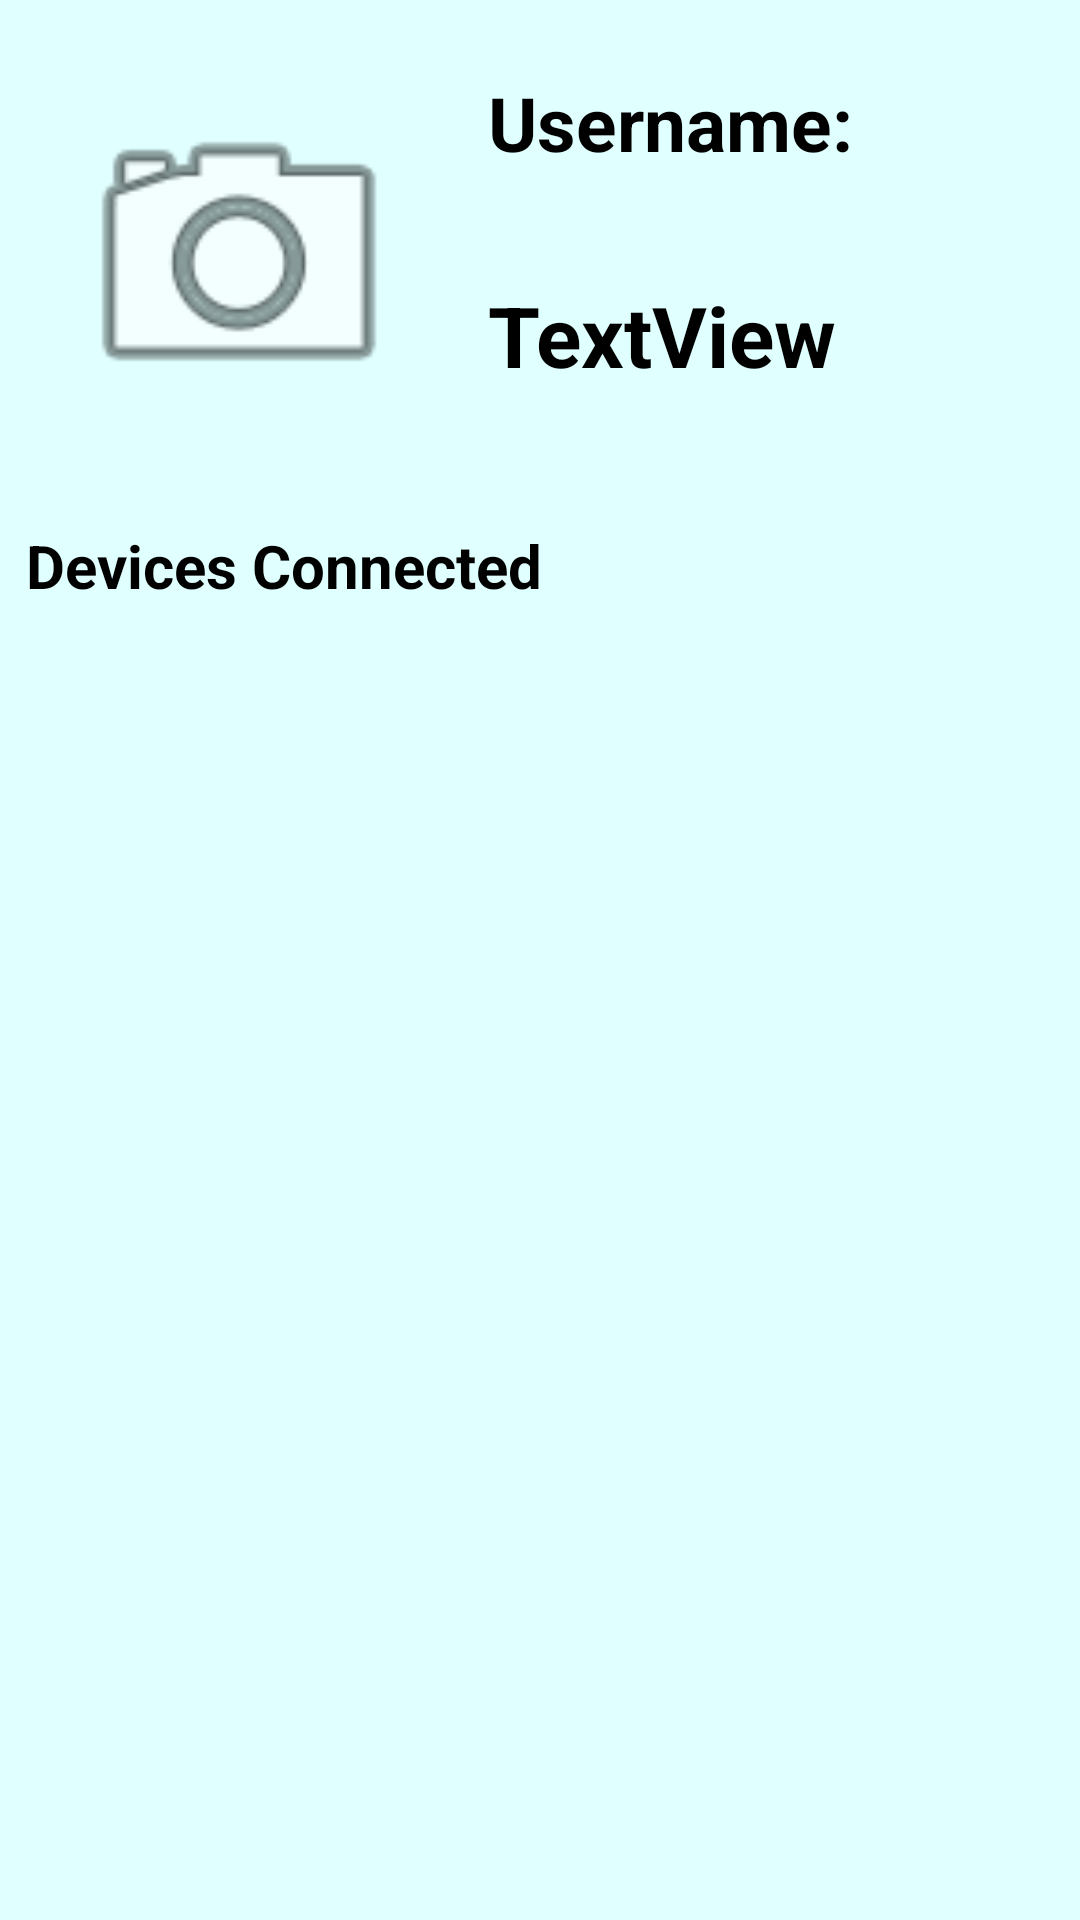

Named icons in this screenshot (1080*1920) and their bounding boxes, [x1, y1, x2, y2]:
camera: [101, 141, 377, 362]
